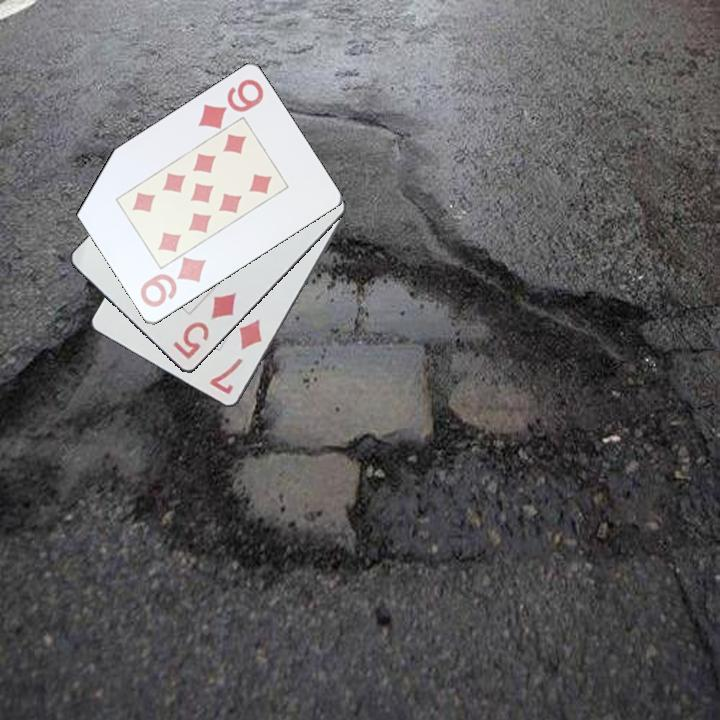5d: (169, 289, 239, 363)
7d: (206, 315, 265, 398)
9d: (136, 254, 209, 311), (194, 76, 267, 132)
